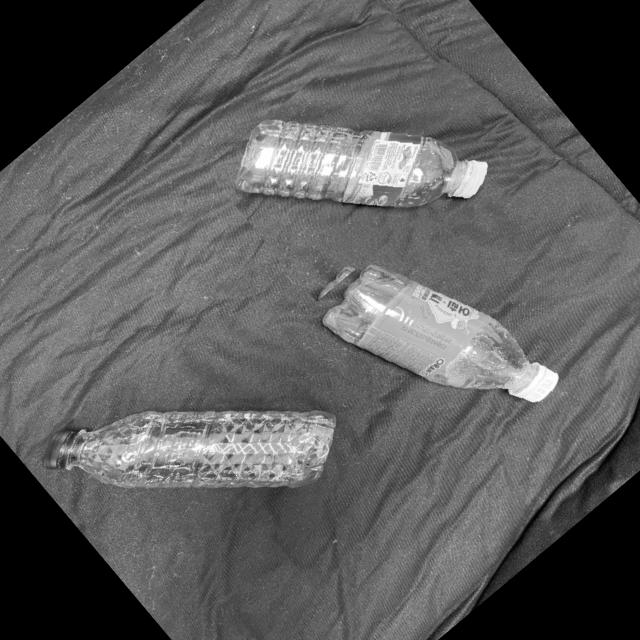plastic bottle: (302, 251, 570, 430), (35, 402, 338, 496), (222, 111, 499, 213)
